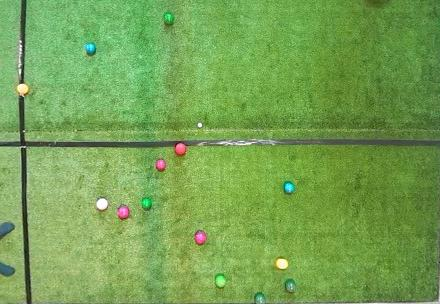blue: (85, 43, 96, 54), (283, 182, 294, 193)
green: (215, 274, 227, 288), (253, 292, 266, 303), (163, 13, 174, 25), (286, 280, 296, 293), (141, 198, 152, 209)
red: (96, 197, 108, 211), (194, 231, 206, 244), (118, 206, 129, 220), (175, 143, 186, 155), (156, 160, 166, 171)
vline: (1, 92, 34, 303), (1, 1, 27, 82), (435, 1, 439, 303)
white: (198, 123, 202, 128)
yellow: (276, 258, 289, 270), (17, 84, 29, 94)
